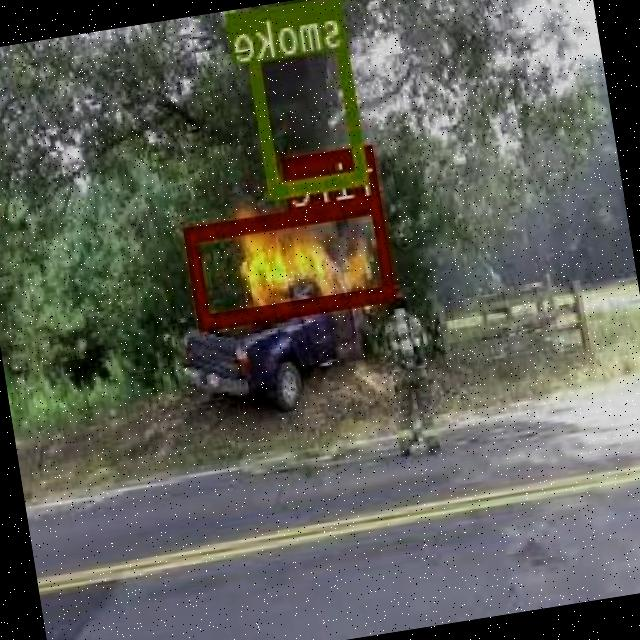fire: (188, 196, 398, 326)
smoke: (242, 0, 369, 194)
